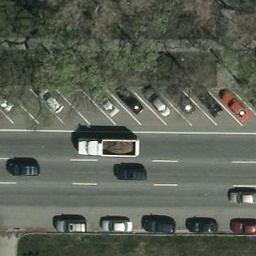car: (220, 89, 250, 125), (5, 159, 45, 178), (110, 163, 150, 182), (51, 216, 91, 235), (97, 214, 137, 233), (140, 215, 180, 234), (182, 215, 222, 234), (38, 83, 61, 112), (95, 90, 118, 119), (119, 86, 142, 115), (145, 87, 168, 116), (172, 84, 195, 113), (196, 86, 219, 115), (228, 216, 256, 234), (228, 188, 256, 206), (1, 93, 16, 113)
